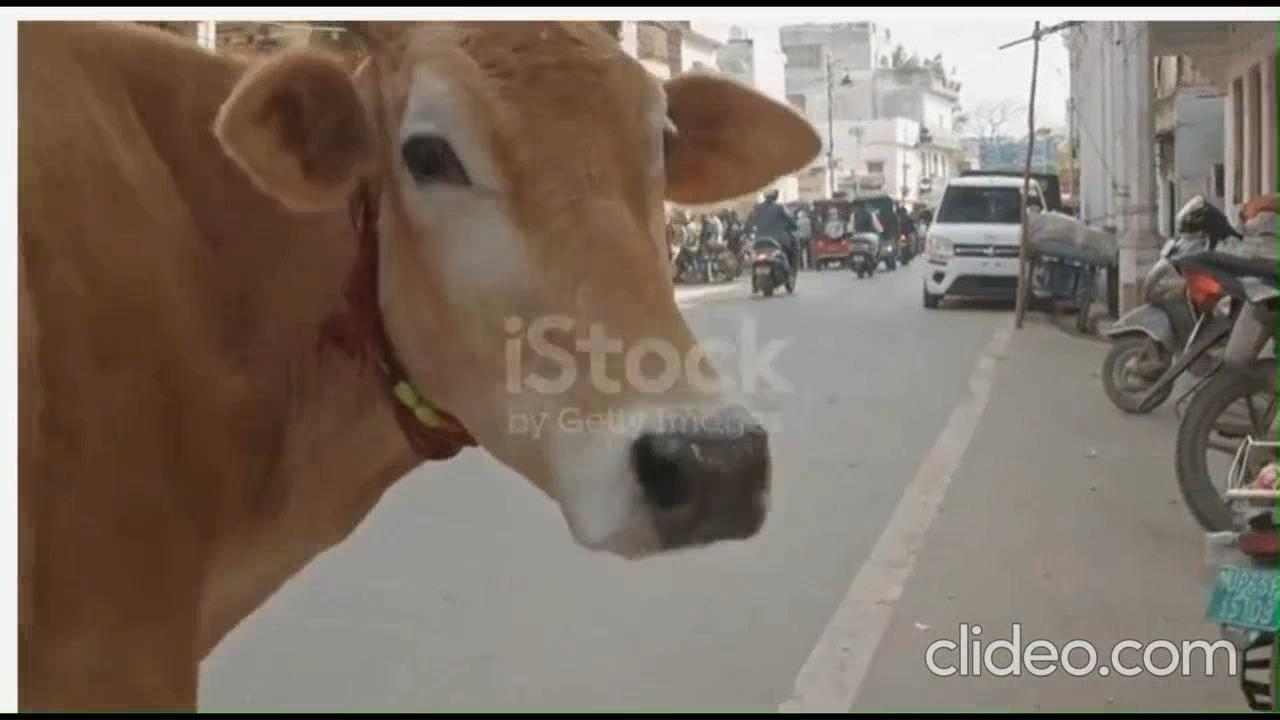Cow: (16, 22, 822, 688)
